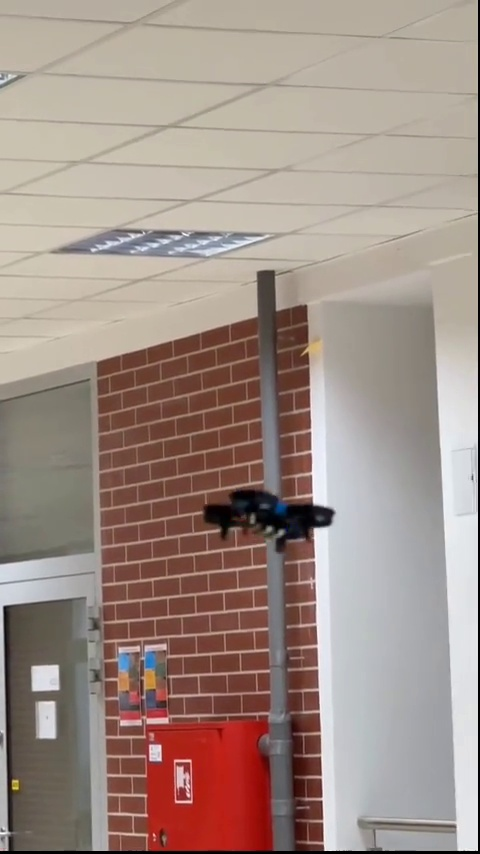drone: (198, 488, 333, 554)
